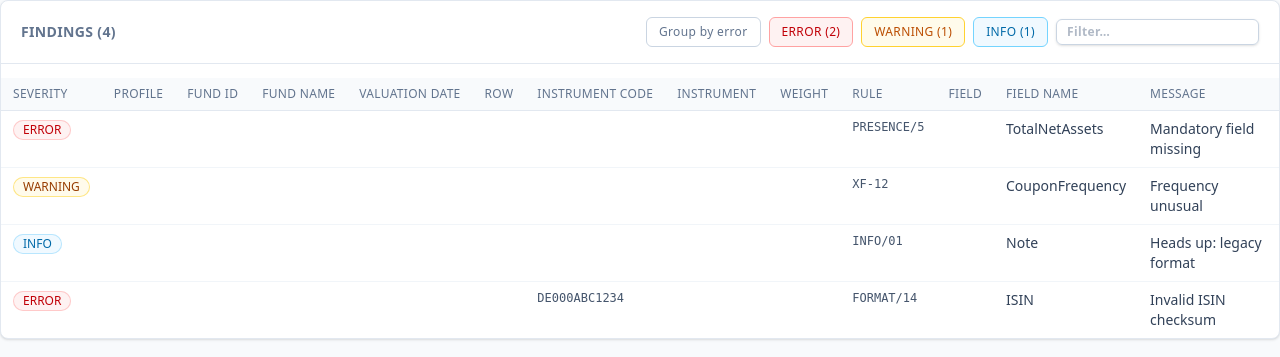
Test: FindingsTable › hides ERROR rows when the ERROR toggle is clicked off
Click the button "ERROR (2)": x=811, y=32 [768,17,853,47]
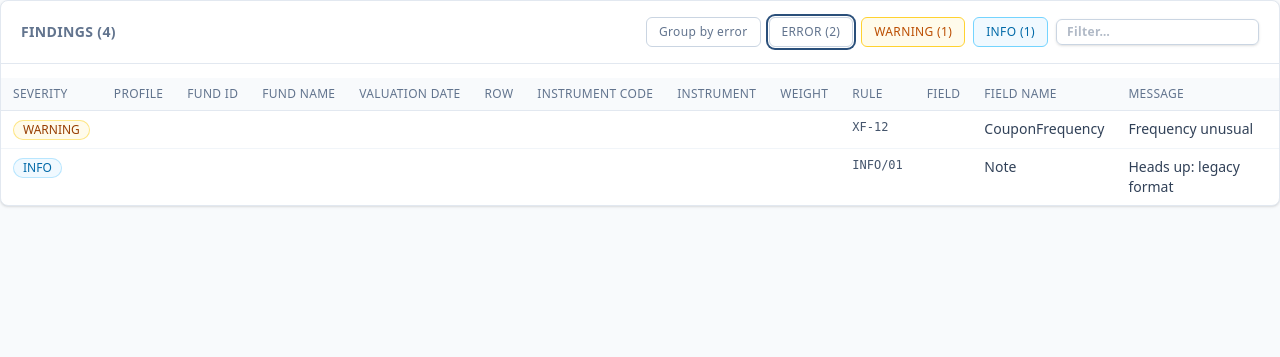
Result: the text "PRESENCE/5" is gone
Result: the text "FORMAT/14" is gone
Result: the text "XF-12" is shown at [840,110,915,148]
